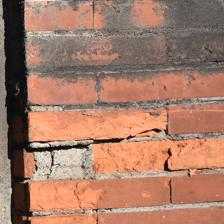Crack: (34, 0, 129, 69), (27, 80, 157, 95), (15, 15, 47, 47)
